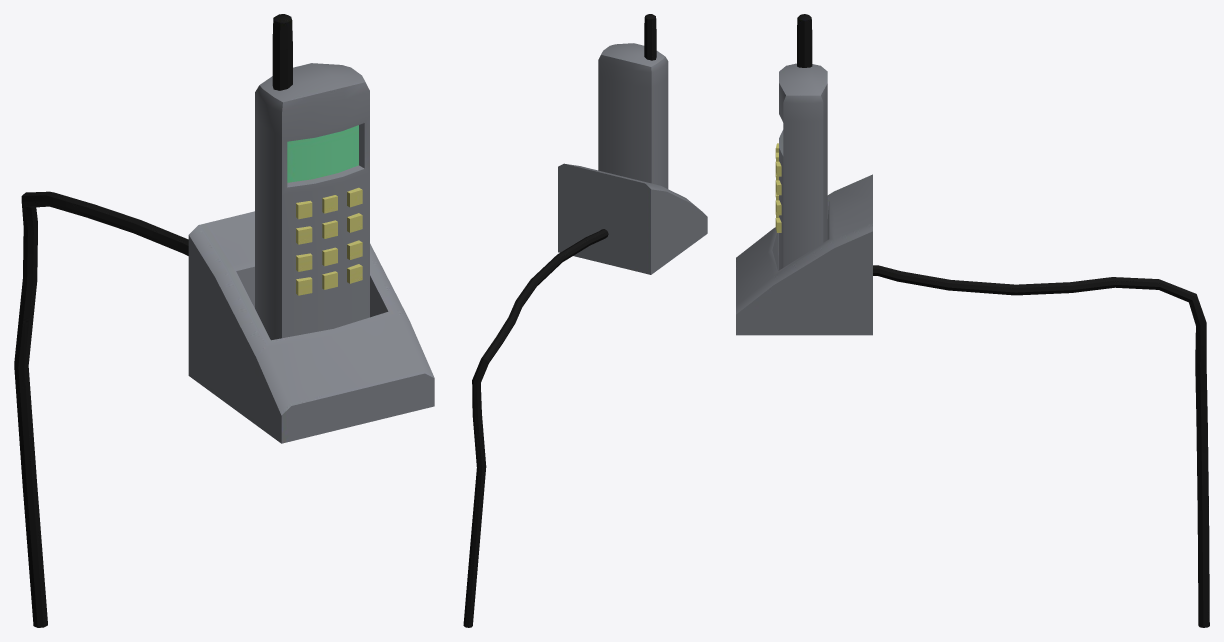
Rendered from wireless tel.fbx.
3 views of the same model, side by side, from view 1: azimuth 30°, elevation 25°; view 2: azimuth 150°, elevation 25°; view 3: azimuth 270°, elevation 25° (orthographic). The views are drawn at different scales.
Parts seen in each view (by area): view 1: wireless_tel; view 2: wireless_tel; view 3: wireless_tel.
Boxes of the visible parts, x1=… form: wireless_tel: x1=14, y1=14, x2=434, y2=627; wireless_tel: x1=463, y1=14, x2=707, y2=627; wireless_tel: x1=736, y1=14, x2=1209, y2=627.
Bounding box in the file's own units: 9.85 × 49.96 × 35.76.
Materials: 1 (1 with a texture image).
